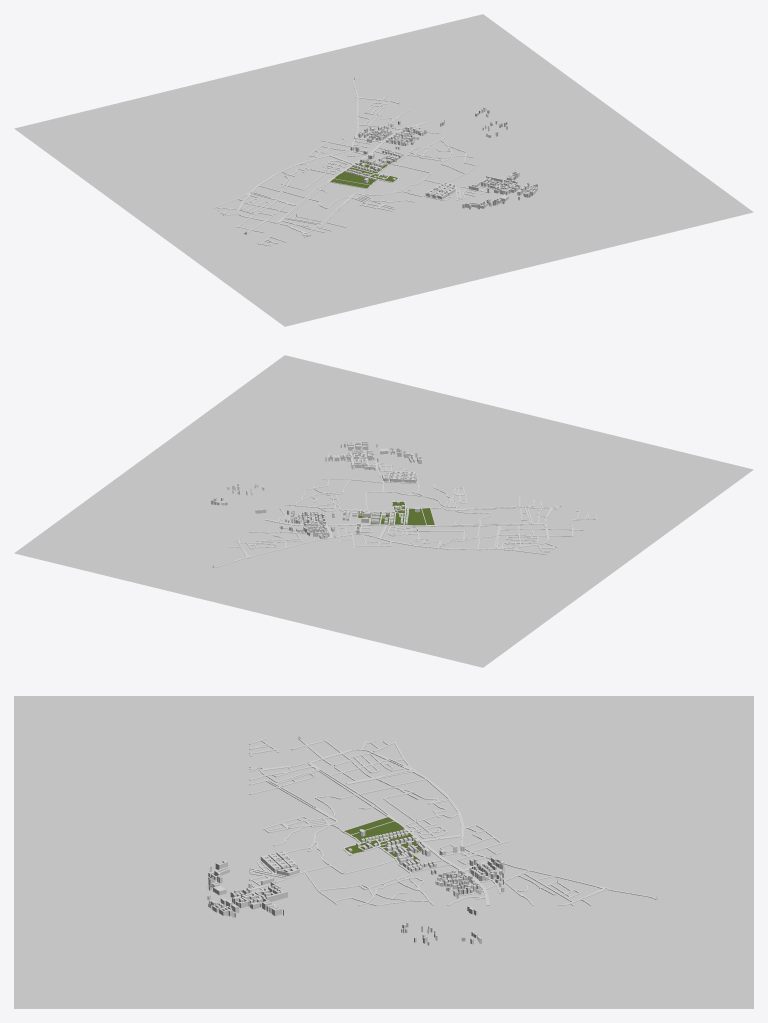
Rendered from Elie Saab_mini_map.glb.
3 renders of one model, top to bottom at view 1: azimuth 30°, elevation 25°; view 2: azimuth 150°, elevation 25°; view 3: azimuth 270°, elevation 25°, orthographic. The views are drawn at different scales.
Visible parts, largest first — view 1: land, road, build, tree; view 2: land, road, build, tree; view 3: land, road, build, tree.
Part boxes in pixels (box(x1,y1,x2,y2)): land: box(14, 14, 753, 326); road: box(214, 77, 495, 236); build: box(256, 107, 537, 246); tree: box(330, 158, 397, 188); land: box(14, 355, 753, 667); road: box(212, 455, 584, 567); build: box(211, 441, 597, 538); tree: box(358, 502, 434, 525); land: box(14, 696, 753, 1008); road: box(249, 736, 657, 906); build: box(207, 738, 504, 945); tree: box(344, 817, 428, 864).
Bounding box in the file's own units: 5193 × 72.19 × 5193.
4 materials, 1 textured.
